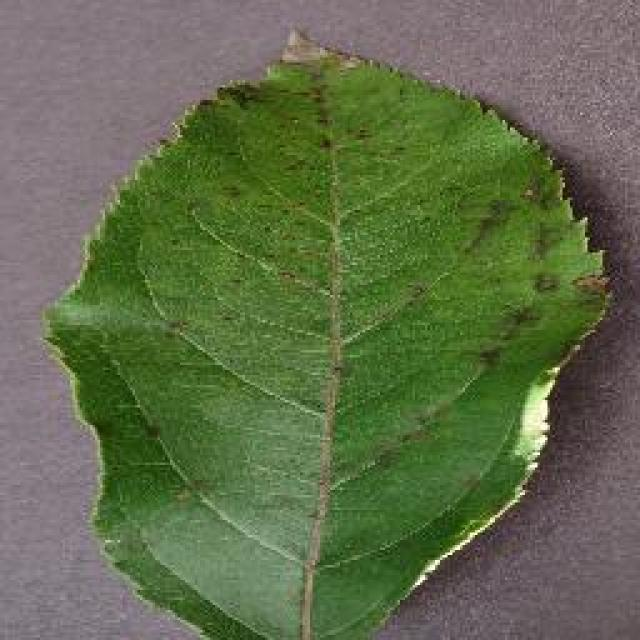apple scab disease: (40, 22, 612, 638)
